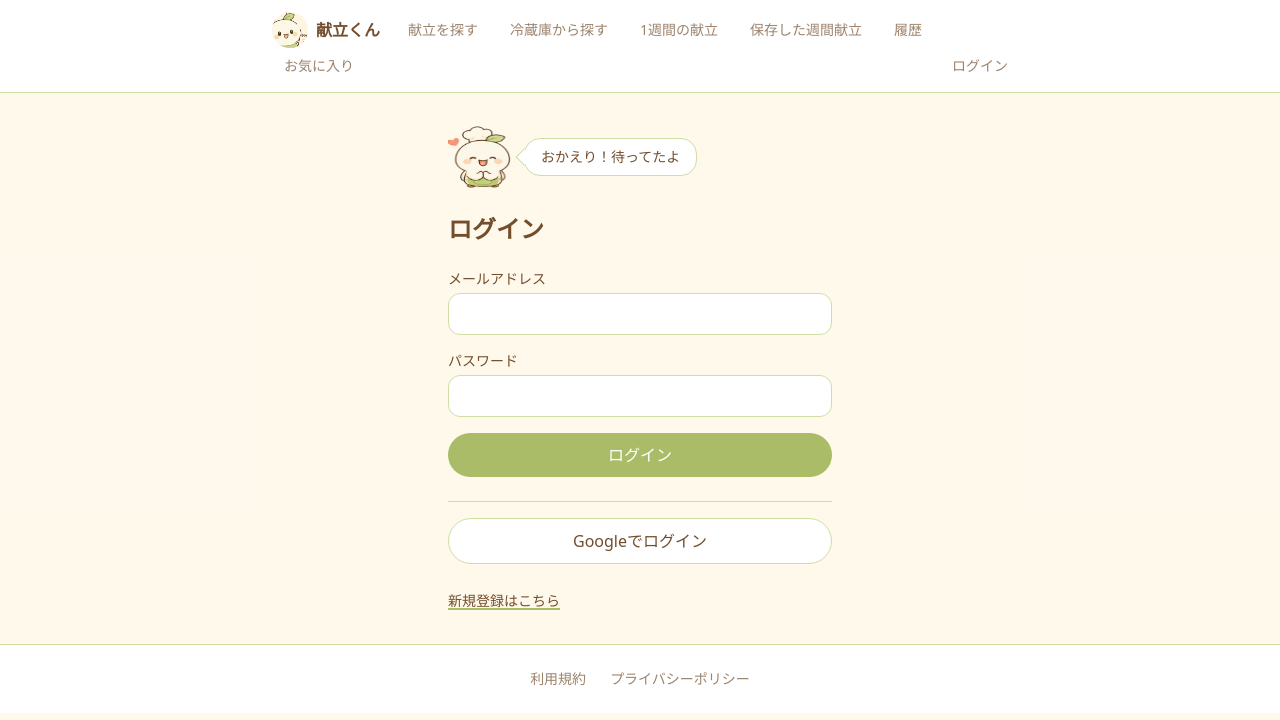
Scenario: 未認証のとき › ログイン後は行こうとしていた画面に着く
Expected: the heading "ログイン" is shown, [448, 212, 544, 245]
Type "user@example.com" into the field labelled "メールアドレス" at (640, 314), box [448, 293, 832, 335]
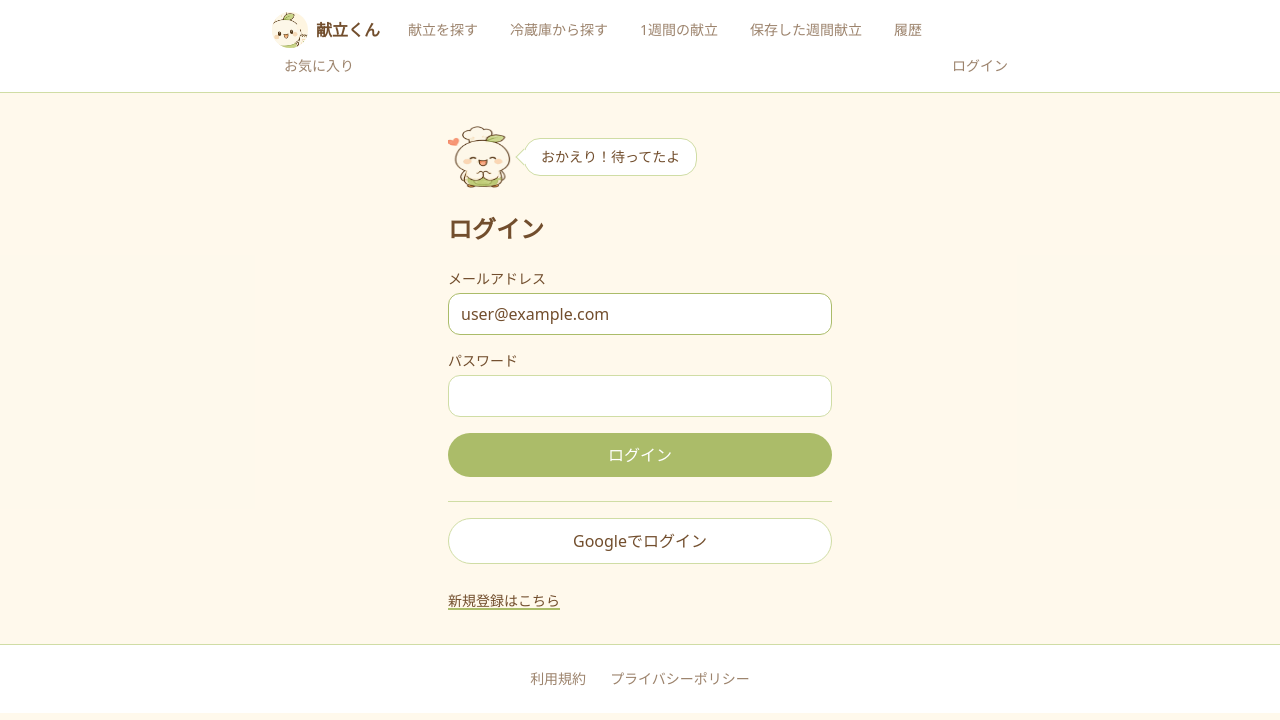
Type "password123" into the password field labelled "パスワード" at (640, 396), box [448, 375, 832, 417]
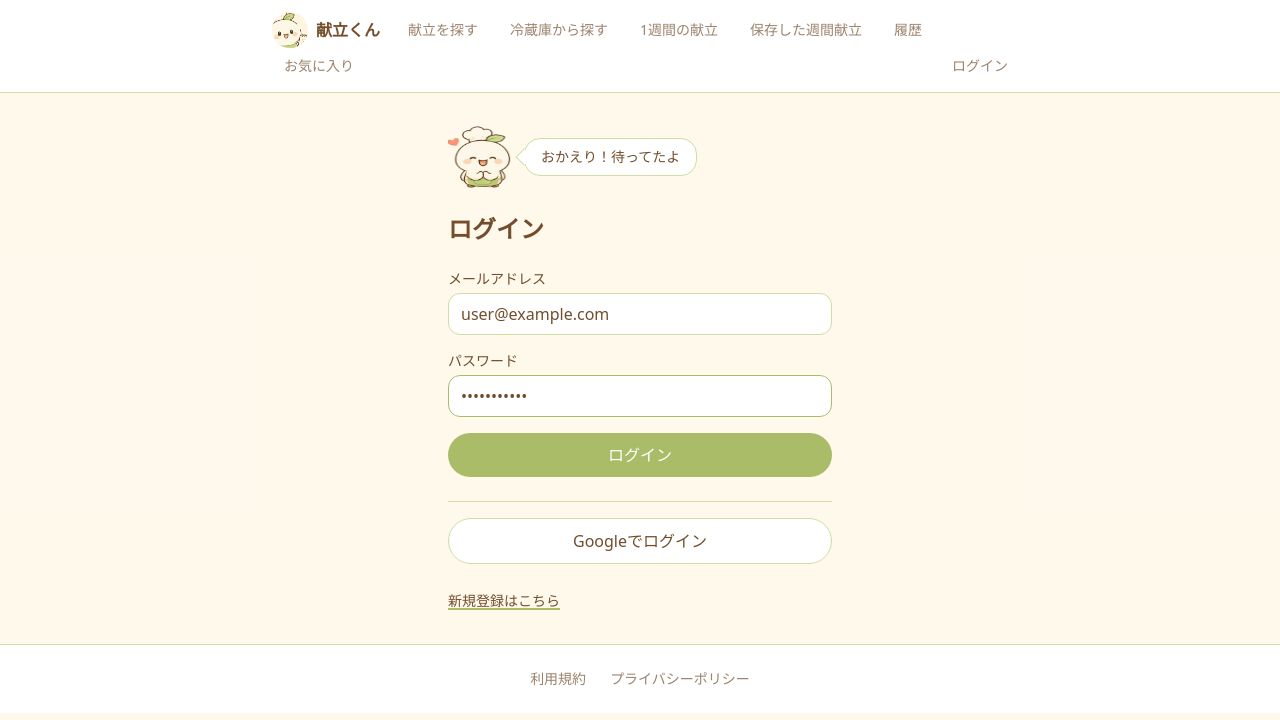
Click the button "ログイン" at (640, 455), box [448, 433, 832, 477]
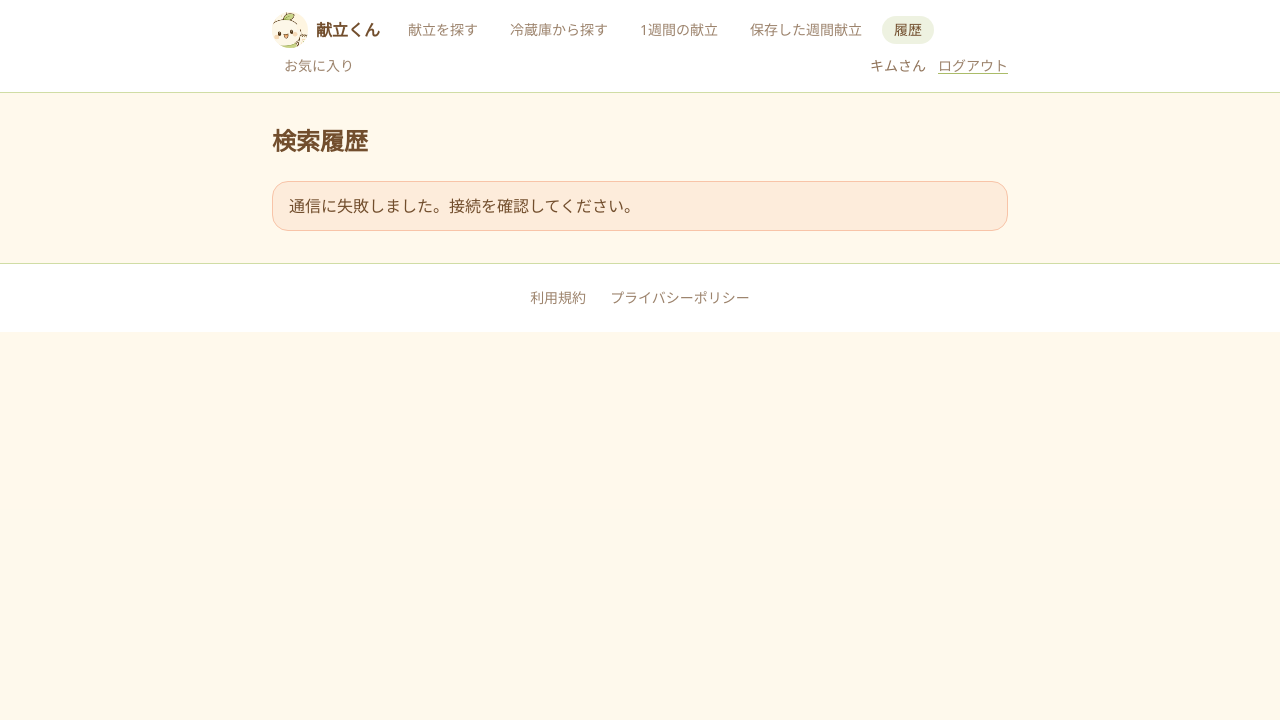
Expected: the heading "検索履歴" is shown, [272, 125, 368, 157]
